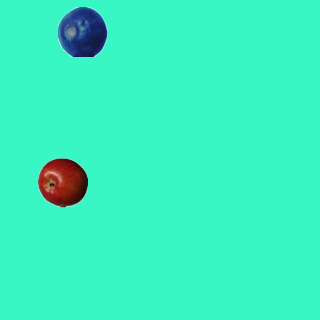Apple Braeburn: (37, 157, 87, 207)
Huckleberry: (57, 6, 107, 56)
